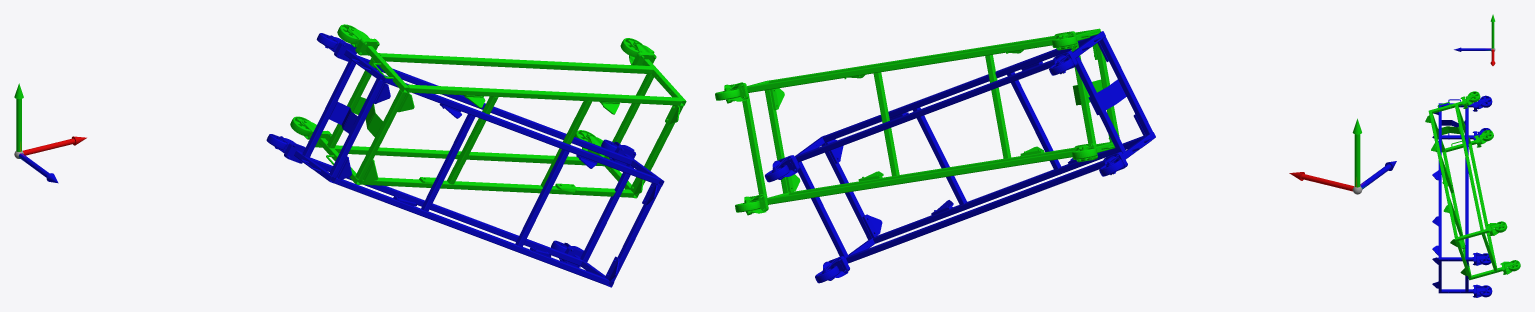
The model's file is combined_scene_sample_713.glb.
3 renders of one model, left to right at view 1: azimuth 30°, elevation 25°; view 2: azimuth 150°, elevation 25°; view 3: azimuth 270°, elevation 25°, orthographic. The views are drawn at different scales.
Parts seen in each view (by area): view 1: pred, gt, frame; view 2: gt, pred, frame; view 3: pred, gt, frame.
Boxes of the visible parts, left/top/right/bottom form: pred: left=290, top=24, right=686, bottom=198; gt: left=266, top=33, right=664, bottom=287; frame: left=14, top=83, right=86, bottom=183; gt: left=765, top=31, right=1155, bottom=283; pred: left=715, top=28, right=1119, bottom=215; frame: left=1289, top=118, right=1396, bottom=194; pred: left=1425, top=91, right=1520, bottom=280; gt: left=1432, top=95, right=1492, bottom=297; frame: left=1454, top=14, right=1495, bottom=65.
Bounding box in the file's own units: 4.66 × 2.13 × 1.21.
